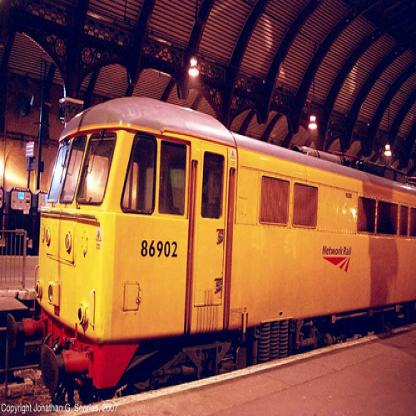train: (5, 97, 415, 396)
